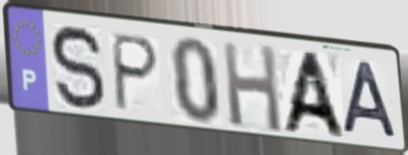0: (165, 34, 225, 127)
A: (277, 49, 349, 141), (341, 58, 401, 142)
H: (219, 39, 285, 137)
P: (112, 30, 162, 114)
S: (48, 22, 109, 114)
